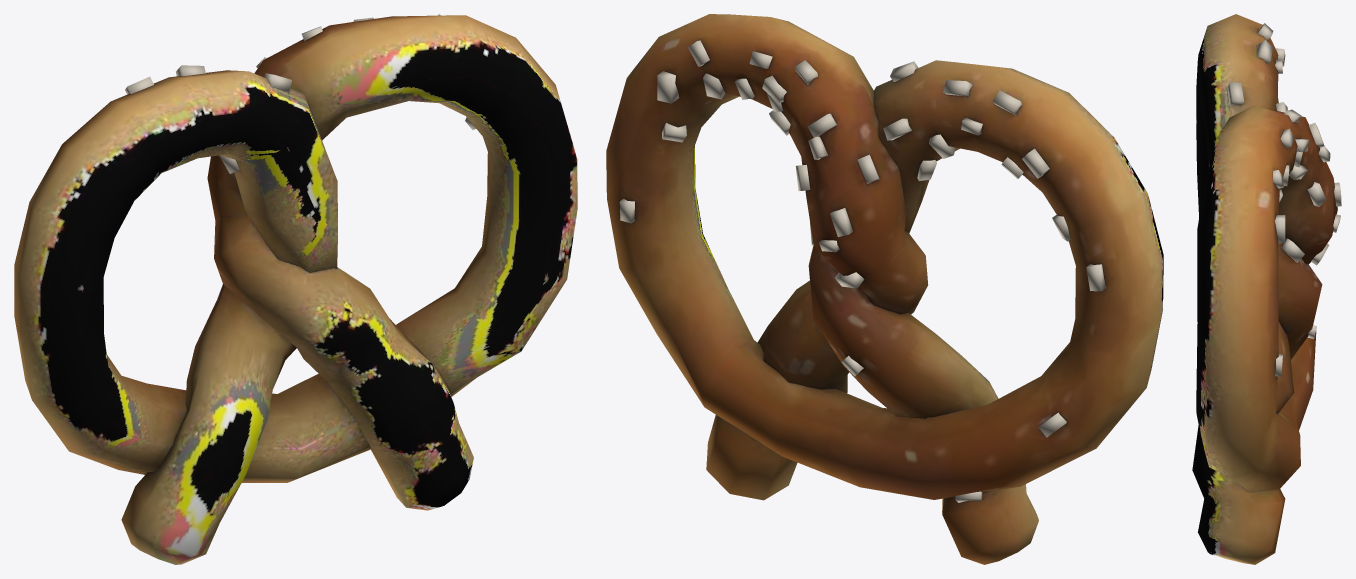
3 renders of one model, left to right at view 1: azimuth 30°, elevation 25°; view 2: azimuth 150°, elevation 25°; view 3: azimuth 270°, elevation 25°, orthographic. The views are drawn at different scales.
Visible parts, largest first — view 1: body0_model0_lod0_mesh0; view 2: body0_model0_lod0_mesh0; view 3: body0_model0_lod0_mesh0.
Part boxes in pixels (x1,y1,x2,y2): body0_model0_lod0_mesh0: (14, 14, 577, 564); body0_model0_lod0_mesh0: (606, 14, 1163, 564); body0_model0_lod0_mesh0: (1192, 14, 1341, 564).
Size of the model in its own units: 15.83 by 13.37 by 4.21.
Materials: 1 (1 with a texture image).
